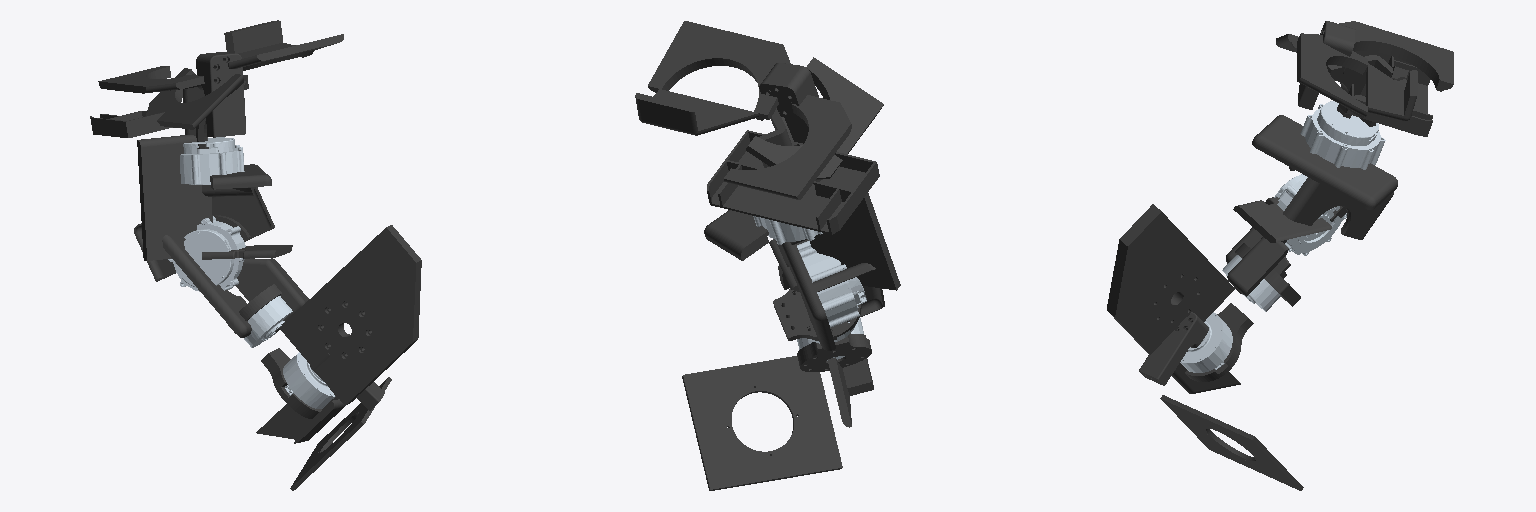
The robot description file, URDF, robot "echo_arm":
<?xml version="1.0" ?>
<!-- Generated using onshape-to-robot -->
<!-- Onshape https://cad.onshape.com/documents/24172d14ad648476003a096a/v/c8fa33abddb2cef72083573e/e/5d7506bcb0aa174b13d7fbf9 -->
<robot name="echo_arm">
  <!-- Link part_1 -->
  <link name="part_1">
    <inertial>
      <origin xyz="0.265851 0.0826044 0.210574" rpy="0 0 0"/>
      <mass value="0.268384"/>
      <inertia ixx="0.000558314" ixy="-2.44223e-06" ixz="6.54392e-07" iyy="0.000297563" iyz="-2.26512e-06" izz="0.000289716"/>
    </inertial>
    <!-- Part part_1 -->
    <visual>
      <origin xyz="0.274144 0.0834746 0.21034" rpy="1.5708 -0.261799 -1.5708"/>
      <geometry>
        <mesh filename="package://assets/part_1.stl"/>
      </geometry>
      <material name="part_1_material">
        <color rgba="0.301961 0.301961 0.301961 1"/>
      </material>
    </visual>
    <collision>
      <origin xyz="0.274144 0.0834746 0.21034" rpy="1.5708 -0.261799 -1.5708"/>
      <geometry>
        <mesh filename="package://assets/part_1.stl"/>
      </geometry>
    </collision>
  </link>
  <!-- Link composite_part_1 -->
  <link name="composite_part_1">
    <inertial>
      <origin xyz="0.00103198 -0.000178223 0.000345714" rpy="0 0 0"/>
      <mass value="0.515509"/>
      <inertia ixx="0.000677734" ixy="1.09089e-05" ixz="-2.52206e-06" iyy="0.000661115" iyz="6.97067e-06" izz="0.00105365"/>
    </inertial>
    <!-- Part part_1_2 -->
    <visual>
      <origin xyz="0 -0 -0.022" rpy="-3.14159 0 1.309"/>
      <geometry>
        <mesh filename="package://assets/part_1__2.stl"/>
      </geometry>
      <material name="part_1_2_material">
        <color rgba="0.301961 0.301961 0.301961 1"/>
      </material>
    </visual>
    <collision>
      <origin xyz="0 -0 -0.022" rpy="-3.14159 0 1.309"/>
      <geometry>
        <mesh filename="package://assets/part_1__2.stl"/>
      </geometry>
    </collision>
    <!-- Part composite_part_1 -->
    <visual>
      <origin xyz="0 0 0.0035" rpy="3.14159 0 -0"/>
      <geometry>
        <mesh filename="package://assets/composite_part_1.stl"/>
      </geometry>
      <material name="composite_part_1_material">
        <color rgba="0.811765 0.858824 0.898039 1"/>
      </material>
    </visual>
    <collision>
      <origin xyz="0 0 0.0035" rpy="3.14159 0 -0"/>
      <geometry>
        <mesh filename="package://assets/composite_part_1.stl"/>
      </geometry>
    </collision>
  </link>
  <!-- Link part_1_2 -->
  <link name="part_1_2">
    <inertial>
      <origin xyz="0.011575 0.000496072 -0.0707463" rpy="0 0 0"/>
      <mass value="0.976522"/>
      <inertia ixx="0.00238089" ixy="6.16414e-06" ixz="-1.42859e-05" iyy="0.00203495" iyz="1.17305e-05" izz="0.0013903"/>
    </inertial>
    <!-- Part composite_part_1_2 -->
    <visual>
      <origin xyz="0.000993402 -0 -0.083" rpy="-1.5708 0.261799 1.5708"/>
      <geometry>
        <mesh filename="package://assets/composite_part_1.stl"/>
      </geometry>
      <material name="composite_part_1_2_material">
        <color rgba="0.811765 0.858824 0.898039 1"/>
      </material>
    </visual>
    <collision>
      <origin xyz="0.000993402 -0 -0.083" rpy="-1.5708 0.261799 1.5708"/>
      <geometry>
        <mesh filename="package://assets/composite_part_1.stl"/>
      </geometry>
    </collision>
    <!-- Part part_1_3 -->
    <visual>
      <origin xyz="-0.0265066 0 -0.083" rpy="-1.5708 1.0472 -1.5708"/>
      <geometry>
        <mesh filename="package://assets/part_1__2.stl"/>
      </geometry>
      <material name="part_1_3_material">
        <color rgba="0.301961 0.301961 0.301961 1"/>
      </material>
    </visual>
    <collision>
      <origin xyz="-0.0265066 0 -0.083" rpy="-1.5708 1.0472 -1.5708"/>
      <geometry>
        <mesh filename="package://assets/part_1__2.stl"/>
      </geometry>
    </collision>
    <!-- Part part_1_4 -->
    <visual>
      <origin xyz="0.0341934 -0 -0.083" rpy="-0 -1.5708 0"/>
      <geometry>
        <mesh filename="package://assets/part_1__3.stl"/>
      </geometry>
      <material name="part_1_4_material">
        <color rgba="0.301961 0.301961 0.301961 1"/>
      </material>
    </visual>
    <collision>
      <origin xyz="0.0341934 -0 -0.083" rpy="-0 -1.5708 0"/>
      <geometry>
        <mesh filename="package://assets/part_1__3.stl"/>
      </geometry>
    </collision>
    <!-- Part part_1_5 -->
    <visual>
      <origin xyz="0.0491934 -0.0415 -0.128" rpy="-1.5708 -1.5708 0"/>
      <geometry>
        <mesh filename="package://assets/part_1__4.stl"/>
      </geometry>
      <material name="part_1_5_material">
        <color rgba="0.301961 0.301961 0.301961 1"/>
      </material>
    </visual>
    <collision>
      <origin xyz="0.0491934 -0.0415 -0.128" rpy="-1.5708 -1.5708 0"/>
      <geometry>
        <mesh filename="package://assets/part_1__4.stl"/>
      </geometry>
    </collision>
  </link>
  <!-- Link rs03 -->
  <link name="rs03">
    <inertial>
      <origin xyz="-0.0903536 -5.86716e-05 0.015729" rpy="0 0 0"/>
      <mass value="0.739637"/>
      <inertia ixx="0.0013869" ixy="-2.2314e-06" ixz="0.000735367" iyy="0.00262609" iyz="8.18755e-06" izz="0.00213631"/>
    </inertial>
    <!-- Part rs03 -->
    <visual>
      <origin xyz="-0.1141 0 0.0339898" rpy="1.5708 -0.401426 -1.5708"/>
      <geometry>
        <mesh filename="package://assets/rs03.stl"/>
      </geometry>
      <material name="rs03_material">
        <color rgba="0.811765 0.858824 0.898039 1"/>
      </material>
    </visual>
    <collision>
      <origin xyz="-0.1141 0 0.0339898" rpy="1.5708 -0.401426 -1.5708"/>
      <geometry>
        <mesh filename="package://assets/rs03.stl"/>
      </geometry>
    </collision>
    <!-- Part part_1_6 -->
    <visual>
      <origin xyz="-0.1536 0 0.0339898" rpy="-1.5708 -0.401426 -1.5708"/>
      <geometry>
        <mesh filename="package://assets/part_1__5.stl"/>
      </geometry>
      <material name="part_1_6_material">
        <color rgba="0.301961 0.301961 0.301961 1"/>
      </material>
    </visual>
    <collision>
      <origin xyz="-0.1536 0 0.0339898" rpy="-1.5708 -0.401426 -1.5708"/>
      <geometry>
        <mesh filename="package://assets/part_1__5.stl"/>
      </geometry>
    </collision>
    <!-- Part part_1_7 -->
    <visual>
      <origin xyz="-0.025 0.025 0" rpy="1.5708 1.5708 0"/>
      <geometry>
        <mesh filename="package://assets/part_1__6.stl"/>
      </geometry>
      <material name="part_1_7_material">
        <color rgba="0.301961 0.301961 0.301961 1"/>
      </material>
    </visual>
    <collision>
      <origin xyz="-0.025 0.025 0" rpy="1.5708 1.5708 0"/>
      <geometry>
        <mesh filename="package://assets/part_1__6.stl"/>
      </geometry>
    </collision>
    <!-- Part part_1_8 -->
    <visual>
      <origin xyz="-0.085 0 0.0339898" rpy="1.5708 0 -1.5708"/>
      <geometry>
        <mesh filename="package://assets/part_1__7.stl"/>
      </geometry>
      <material name="part_1_8_material">
        <color rgba="0.301961 0.301961 0.301961 1"/>
      </material>
    </visual>
    <collision>
      <origin xyz="-0.085 0 0.0339898" rpy="1.5708 0 -1.5708"/>
      <geometry>
        <mesh filename="package://assets/part_1__7.stl"/>
      </geometry>
    </collision>
  </link>
  <!-- Link rs03_2 -->
  <link name="rs03_2">
    <inertial>
      <origin xyz="0.00599742 0.0141621 -0.0829297" rpy="0 0 0"/>
      <mass value="0.563792"/>
      <inertia ixx="0.00118261" ixy="4.33329e-05" ixz="-1.24802e-05" iyy="0.00128242" iyz="-1.60723e-05" izz="0.00059212"/>
    </inertial>
    <!-- Part part_1_9 -->
    <visual>
      <origin xyz="-0.00660831 -0.0163123 -0.098" rpy="-1.5708 1.18682 2.75669"/>
      <geometry>
        <mesh filename="package://assets/part_1__5.stl"/>
      </geometry>
      <material name="part_1_9_material">
        <color rgba="0.301961 0.301961 0.301961 1"/>
      </material>
    </visual>
    <collision>
      <origin xyz="-0.00660831 -0.0163123 -0.098" rpy="-1.5708 1.18682 2.75669"/>
      <geometry>
        <mesh filename="package://assets/part_1__5.stl"/>
      </geometry>
    </collision>
    <!-- Part rs03_2 -->
    <visual>
      <origin xyz="0.00747189 0.018444 -0.098" rpy="-1.5708 1.18682 2.75669"/>
      <geometry>
        <mesh filename="package://assets/rs03.stl"/>
      </geometry>
      <material name="rs03_2_material">
        <color rgba="0.811765 0.858824 0.898039 1"/>
      </material>
    </visual>
    <collision>
      <origin xyz="0.00747189 0.018444 -0.098" rpy="-1.5708 1.18682 2.75669"/>
      <geometry>
        <mesh filename="package://assets/rs03.stl"/>
      </geometry>
    </collision>
    <!-- Part part_1_10 -->
    <visual>
      <origin xyz="0.014535 -0.030704 -0.017" rpy="0 0 2.75669"/>
      <geometry>
        <mesh filename="package://assets/part_1__8.stl"/>
      </geometry>
      <material name="part_1_10_material">
        <color rgba="0.301961 0.301961 0.301961 1"/>
      </material>
    </visual>
    <collision>
      <origin xyz="0.014535 -0.030704 -0.017" rpy="0 0 2.75669"/>
      <geometry>
        <mesh filename="package://assets/part_1__8.stl"/>
      </geometry>
    </collision>
    <!-- Part part_1_11 -->
    <visual>
      <origin xyz="0.0165208 0.0407807 -0.098" rpy="-1.5708 0 2.75669"/>
      <geometry>
        <mesh filename="package://assets/part_1__9.stl"/>
      </geometry>
      <material name="part_1_11_material">
        <color rgba="0.301961 0.301961 0.301961 1"/>
      </material>
    </visual>
    <collision>
      <origin xyz="0.0165208 0.0407807 -0.098" rpy="-1.5708 0 2.75669"/>
      <geometry>
        <mesh filename="package://assets/part_1__9.stl"/>
      </geometry>
    </collision>
  </link>
  <!-- Link rs02 -->
  <link name="rs02">
    <inertial>
      <origin xyz="-0.0864185 -6.69118e-06 0.00462171" rpy="0 0 0"/>
      <mass value="0.763641"/>
      <inertia ixx="0.000733021" ixy="3.67877e-07" ixz="0.000460957" iyy="0.00183718" iyz="7.70897e-07" izz="0.00160957"/>
    </inertial>
    <!-- Part part_1_12 -->
    <visual>
      <origin xyz="-0.1354 -0 0.0155985" rpy="-1.5708 0.10472 -1.5708"/>
      <geometry>
        <mesh filename="package://assets/part_1__10.stl"/>
      </geometry>
      <material name="part_1_12_material">
        <color rgba="0.301961 0.301961 0.301961 1"/>
      </material>
    </visual>
    <collision>
      <origin xyz="-0.1354 -0 0.0155985" rpy="-1.5708 0.10472 -1.5708"/>
      <geometry>
        <mesh filename="package://assets/part_1__10.stl"/>
      </geometry>
    </collision>
    <!-- Part part_1_13 -->
    <visual>
      <origin xyz="-0.025 0.025 0" rpy="1.5708 1.5708 0"/>
      <geometry>
        <mesh filename="package://assets/part_1__11.stl"/>
      </geometry>
      <material name="part_1_13_material">
        <color rgba="0.301961 0.301961 0.301961 1"/>
      </material>
    </visual>
    <collision>
      <origin xyz="-0.025 0.025 0" rpy="1.5708 1.5708 0"/>
      <geometry>
        <mesh filename="package://assets/part_1__11.stl"/>
      </geometry>
    </collision>
    <!-- Part rs02 -->
    <visual>
      <origin xyz="-0.1294 -0 0.0155985" rpy="-1.5708 1.46608 1.5708"/>
      <geometry>
        <mesh filename="package://assets/rs02.stl"/>
      </geometry>
      <material name="rs02_material">
        <color rgba="0.811765 0.858824 0.898039 1"/>
      </material>
    </visual>
    <collision>
      <origin xyz="-0.1294 -0 0.0155985" rpy="-1.5708 1.46608 1.5708"/>
      <geometry>
        <mesh filename="package://assets/rs02.stl"/>
      </geometry>
    </collision>
    <!-- Part part_1_14 -->
    <visual>
      <origin xyz="-0.085 -0 0.0155985" rpy="1.5708 0 -1.5708"/>
      <geometry>
        <mesh filename="package://assets/part_1__12.stl"/>
      </geometry>
      <material name="part_1_14_material">
        <color rgba="0.301961 0.301961 0.301961 1"/>
      </material>
    </visual>
    <collision>
      <origin xyz="-0.085 -0 0.0155985" rpy="1.5708 0 -1.5708"/>
      <geometry>
        <mesh filename="package://assets/part_1__12.stl"/>
      </geometry>
    </collision>
  </link>
  <!-- Link rs02_2 -->
  <link name="rs02_2">
    <inertial>
      <origin xyz="-2.70249e-06 0.0131569 -0.0733936" rpy="0 0 0"/>
      <mass value="0.607908"/>
      <inertia ixx="0.000528877" ixy="1.28884e-07" ixz="-8.58733e-07" iyy="0.000641686" iyz="-8.04138e-06" izz="0.000319315"/>
    </inertial>
    <!-- Part part_1_15 -->
    <visual>
      <origin xyz="0 0.0366 -0.0791312" rpy="-1.5708 -0 -3.14159"/>
      <geometry>
        <mesh filename="package://assets/part_1__13.stl"/>
      </geometry>
      <material name="part_1_15_material">
        <color rgba="0.301961 0.301961 0.301961 1"/>
      </material>
    </visual>
    <collision>
      <origin xyz="0 0.0366 -0.0791312" rpy="-1.5708 -0 -3.14159"/>
      <geometry>
        <mesh filename="package://assets/part_1__13.stl"/>
      </geometry>
    </collision>
    <!-- Part part_1_16 -->
    <visual>
      <origin xyz="-0 -0.0138 -0.0791312" rpy="1.5708 1.44862 3.14159"/>
      <geometry>
        <mesh filename="package://assets/part_1__10.stl"/>
      </geometry>
      <material name="part_1_16_material">
        <color rgba="0.301961 0.301961 0.301961 1"/>
      </material>
    </visual>
    <collision>
      <origin xyz="-0 -0.0138 -0.0791312" rpy="1.5708 1.44862 3.14159"/>
      <geometry>
        <mesh filename="package://assets/part_1__10.stl"/>
      </geometry>
    </collision>
    <!-- Part rs02_2 -->
    <visual>
      <origin xyz="-0 -0.0078 -0.0791312" rpy="1.5708 -1.44862 -0"/>
      <geometry>
        <mesh filename="package://assets/rs02.stl"/>
      </geometry>
      <material name="rs02_2_material">
        <color rgba="0.811765 0.858824 0.898039 1"/>
      </material>
    </visual>
    <collision>
      <origin xyz="-0 -0.0078 -0.0791312" rpy="1.5708 -1.44862 -0"/>
      <geometry>
        <mesh filename="package://assets/rs02.stl"/>
      </geometry>
    </collision>
    <!-- Part part_1_17 -->
    <visual>
      <origin xyz="-0.019 -0.0159 0" rpy="-3.14159 -0 0"/>
      <geometry>
        <mesh filename="package://assets/part_1__14.stl"/>
      </geometry>
      <material name="part_1_17_material">
        <color rgba="0.301961 0.301961 0.301961 1"/>
      </material>
    </visual>
    <collision>
      <origin xyz="-0.019 -0.0159 0" rpy="-3.14159 -0 0"/>
      <geometry>
        <mesh filename="package://assets/part_1__14.stl"/>
      </geometry>
    </collision>
  </link>
  <!-- Link rs00 -->
  <link name="rs00">
    <inertial>
      <origin xyz="-0.0955448 -0.00319998 0.00215183" rpy="0 0 0"/>
      <mass value="0.496037"/>
      <inertia ixx="0.00026494" ixy="-3.53078e-05" ixz="0.000215387" iyy="0.00101087" iyz="1.11303e-05" izz="0.000927642"/>
    </inertial>
    <!-- Part part_1_18 -->
    <visual>
      <origin xyz="-0.0175 0.0175 0" rpy="1.5708 1.5708 0"/>
      <geometry>
        <mesh filename="package://assets/part_1__15.stl"/>
      </geometry>
      <material name="part_1_18_material">
        <color rgba="0.301961 0.301961 0.301961 1"/>
      </material>
    </visual>
    <collision>
      <origin xyz="-0.0175 0.0175 0" rpy="1.5708 1.5708 0"/>
      <geometry>
        <mesh filename="package://assets/part_1__15.stl"/>
      </geometry>
    </collision>
    <!-- Part rs00 -->
    <visual>
      <origin xyz="-0.1385 -0.00459619 0.00915381" rpy="1.5708 -0 1.5708"/>
      <geometry>
        <mesh filename="package://assets/rs00.stl"/>
      </geometry>
      <material name="rs00_material">
        <color rgba="0.901961 0.901961 0.901961 1"/>
      </material>
    </visual>
    <collision>
      <origin xyz="-0.1385 -0.00459619 0.00915381" rpy="1.5708 -0 1.5708"/>
      <geometry>
        <mesh filename="package://assets/rs00.stl"/>
      </geometry>
    </collision>
    <!-- Part part_1_19 -->
    <visual>
      <origin xyz="-0.0925 0 0.01375" rpy="1.5708 -0 1.5708"/>
      <geometry>
        <mesh filename="package://assets/part_1__16.stl"/>
      </geometry>
      <material name="part_1_19_material">
        <color rgba="0.301961 0.301961 0.301961 1"/>
      </material>
    </visual>
    <collision>
      <origin xyz="-0.0925 0 0.01375" rpy="1.5708 -0 1.5708"/>
      <geometry>
        <mesh filename="package://assets/part_1__16.stl"/>
      </geometry>
    </collision>
  </link>
  <!-- Joint from rs02_2 to rs00 -->
  <joint name="arm_7" type="revolute">
    <origin xyz="-0 -0.0138 -0.0791312" rpy="1.5708 -1.33312 -3.14159"/>
    <parent link="rs02_2"/>
    <child link="rs00"/>
    <axis xyz="0 0 1"/>
    <limit effort="10" velocity="10" lower="-3.141592653589793" upper="3.141592653589793"/>
  </joint>
  <!-- Joint from rs02 to rs02_2 -->
  <joint name="arm_6" type="revolute">
    <origin xyz="-0.1354 -0 0.0155985" rpy="-1.5708 1.4194 -1.5708"/>
    <parent link="rs02"/>
    <child link="rs02_2"/>
    <axis xyz="0 0 1"/>
    <limit effort="10" velocity="10" lower="-3.141592653589793" upper="3.141592653589793"/>
  </joint>
  <!-- Joint from rs03_2 to rs02 -->
  <joint name="arm_5" type="revolute">
    <origin xyz="-0.00735925 -0.0181659 -0.098" rpy="-1.5708 -0.892907 -0.384906"/>
    <parent link="rs03_2"/>
    <child link="rs02"/>
    <axis xyz="0 0 1"/>
    <limit effort="10" velocity="10" lower="-3.141592653589793" upper="3.141592653589793"/>
  </joint>
  <!-- Joint from rs03 to rs03_2 -->
  <joint name="arm_4" type="revolute">
    <origin xyz="-0.1536 0 0.0339898" rpy="-1.5708 -0.401426 -1.5708"/>
    <parent link="rs03"/>
    <child link="rs03_2"/>
    <axis xyz="0 0 1"/>
    <limit effort="10" velocity="10" lower="-3.141592653589793" upper="3.141592653589793"/>
  </joint>
  <!-- Joint from part_1_2 to rs03 -->
  <joint name="arm_3" type="revolute">
    <origin xyz="-0.0265066 0 -0.083" rpy="1.5708 -0.122676 1.5708"/>
    <parent link="part_1_2"/>
    <child link="rs03"/>
    <axis xyz="0 0 1"/>
    <limit effort="10" velocity="10" lower="-3.141592653589793" upper="3.141592653589793"/>
  </joint>
  <!-- Joint from composite_part_1 to part_1_2 -->
  <joint name="arm_2" type="revolute">
    <origin xyz="0 -0 -0.024" rpy="-0 -0 -1.63756"/>
    <parent link="composite_part_1"/>
    <child link="part_1_2"/>
    <axis xyz="0 0 1"/>
    <limit effort="10" velocity="10" lower="-3.141592653589793" upper="3.141592653589793"/>
  </joint>
  <!-- Joint from part_1 to composite_part_1 -->
  <joint name="arm_1" type="revolute">
    <origin xyz="0.231144 0.0834746 0.21034" rpy="1.5708 -1.309 1.5708"/>
    <parent link="part_1"/>
    <child link="composite_part_1"/>
    <axis xyz="0 0 1"/>
    <limit effort="10" velocity="10" lower="-3.141592653589793" upper="3.141592653589793"/>
  </joint>
</robot>

--- Render facts (derived) ---
The picture shows the robot from 3 angles, left to right: view 1: azimuth 30°, elevation 25°; view 2: azimuth 150°, elevation 25°; view 3: azimuth 270°, elevation 25°; orthographic projection.
Robot: echo_arm — 8 links, 7 joints (7 revolute); root link part_1; default pose: every joint at zero.
Visible links, largest first — view 1: rs02_2, rs03, rs03_2, rs02, part_1_2, rs00, part_1, composite_part_1; view 2: part_1_2, rs00, rs03, composite_part_1, rs03_2, rs02_2, part_1, rs02; view 3: rs02_2, rs03, rs03_2, part_1_2, rs00, rs02, composite_part_1, part_1.
Link boxes in pixels (x1,y1,x2,y2): rs02_2: (256, 225, 421, 443); rs03: (137, 52, 271, 260); rs03_2: (134, 74, 292, 291); rs02: (162, 235, 308, 347); part_1_2: (90, 66, 243, 137); rs00: (290, 353, 391, 490); part_1: (224, 20, 295, 58); composite_part_1: (228, 34, 343, 70); part_1_2: (707, 57, 883, 234); rs00: (682, 356, 842, 490); rs03: (704, 63, 900, 290); composite_part_1: (648, 21, 790, 120); rs03_2: (759, 108, 866, 350); rs02_2: (797, 318, 873, 427); part_1: (635, 89, 758, 135); rs02: (773, 263, 884, 343); rs02_2: (1107, 204, 1253, 393); rs03: (1252, 21, 1397, 209); rs03_2: (1233, 55, 1393, 255); part_1_2: (1276, 21, 1453, 136); rs00: (1139, 312, 1303, 490); rs02: (1222, 206, 1346, 311); composite_part_1: (1297, 33, 1367, 117); part_1: (1366, 63, 1417, 120).
Bounding box of the posed robot: 0.3387 × 0.4463 × 0.6031 m (x, y, z).
23 mesh visuals loaded from 20 distinct referenced files (18 binary STL); not drawn: 3 (reference not matched to a file when rendering).
